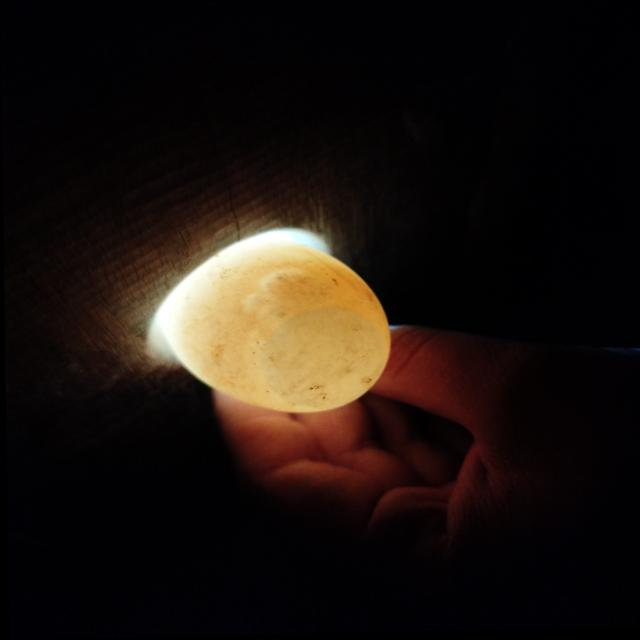Camara de Ar: (260, 309, 386, 410)
